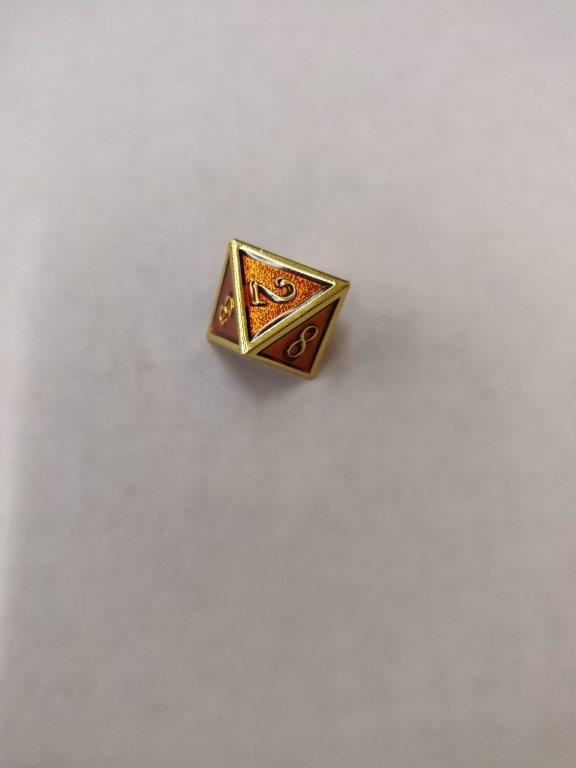d8-2: (205, 240, 350, 382)
